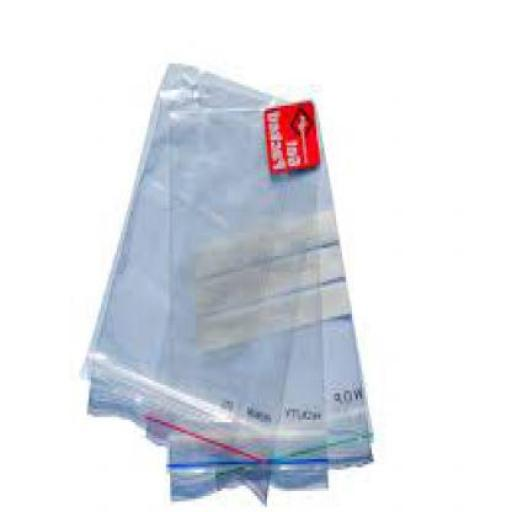plastic: (83, 56, 322, 506), (166, 92, 373, 483), (146, 216, 306, 502), (172, 282, 328, 502)
